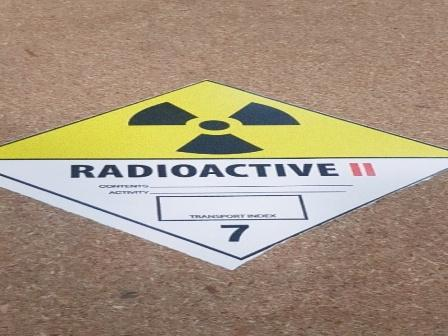radioactive: (1, 80, 448, 259)
